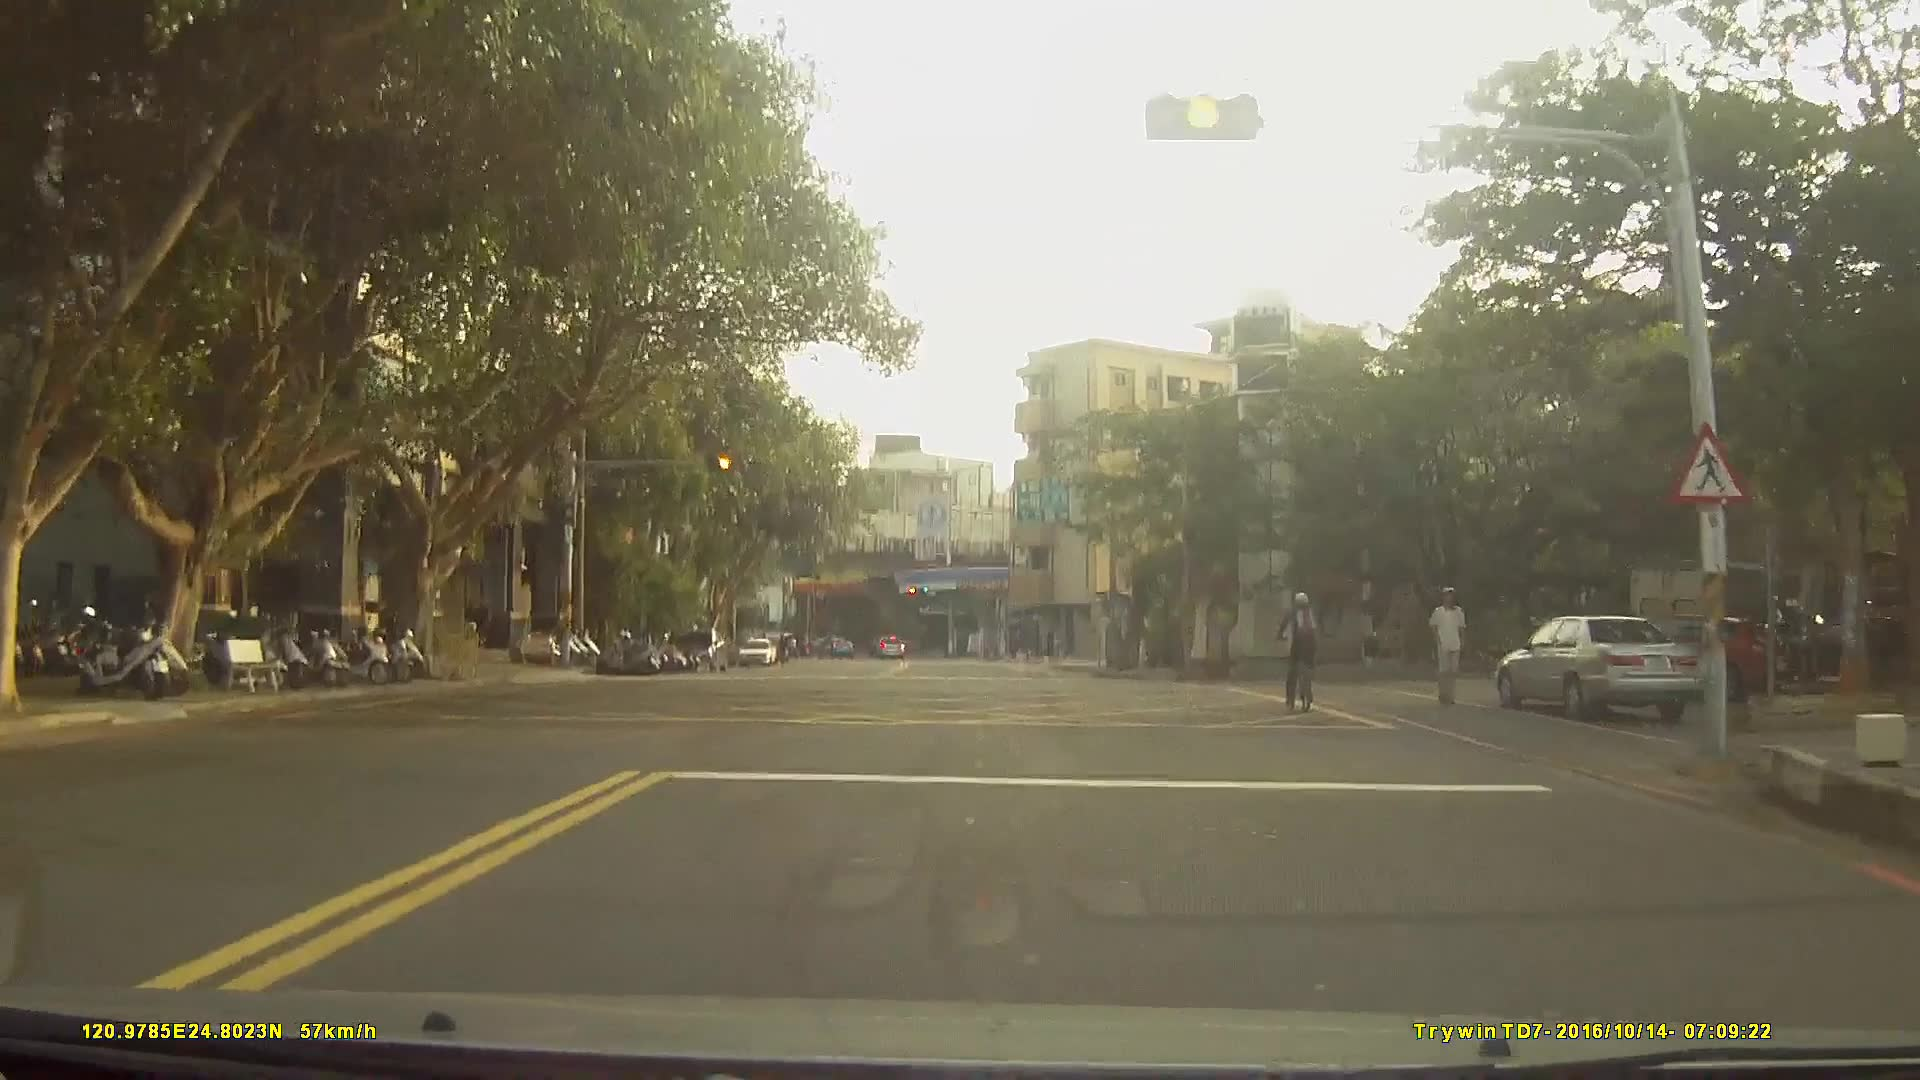pedestrian: (1420, 584, 1477, 704), (461, 597, 482, 650)
rider: (1277, 589, 1326, 710)
vehicle: (1495, 614, 1707, 723), (673, 623, 729, 671), (735, 632, 773, 664), (812, 635, 852, 658), (870, 634, 904, 660)
